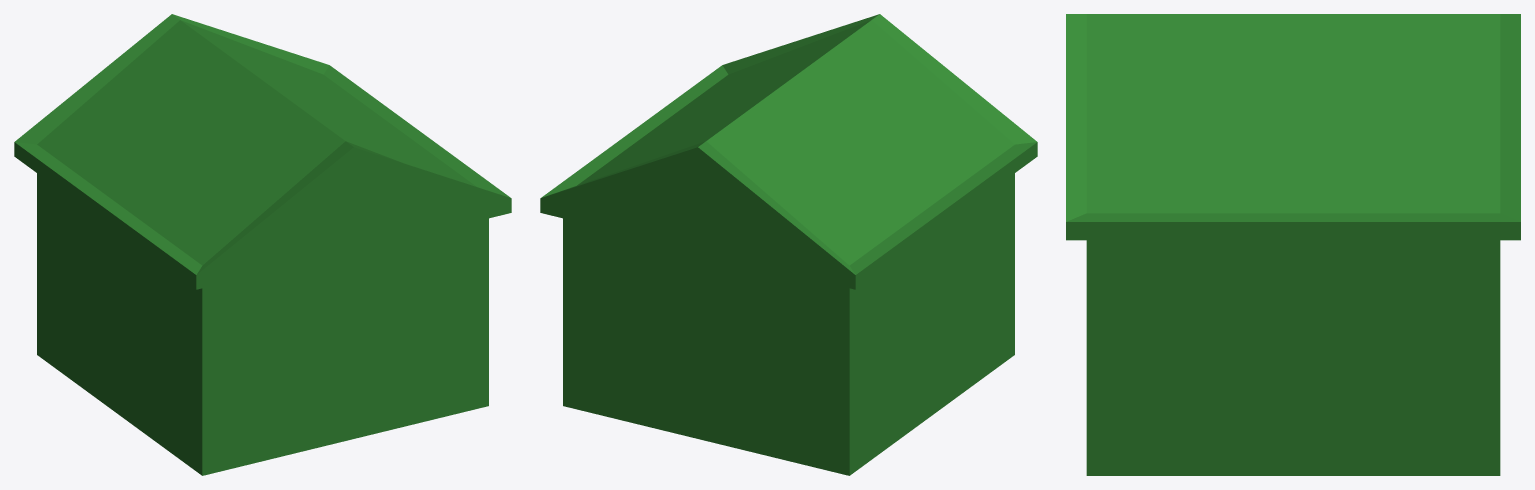
File: Lownopoly House.fbx
The picture shows the model from 3 angles, left to right: view 1: azimuth 30°, elevation 25°; view 2: azimuth 150°, elevation 25°; view 3: azimuth 270°, elevation 25°; orthographic projection. The views are drawn at different scales.
Visible parts, largest first — view 1: Lownopoly House; view 2: Lownopoly House; view 3: Lownopoly House.
Boxes of the visible parts, left/top/right/bottom form: Lownopoly House: left=14, top=14, right=511, bottom=475; Lownopoly House: left=540, top=14, right=1037, bottom=475; Lownopoly House: left=1066, top=14, right=1520, bottom=475.
Bounding box in the file's own units: 15.84 × 15.84 × 14.4.
